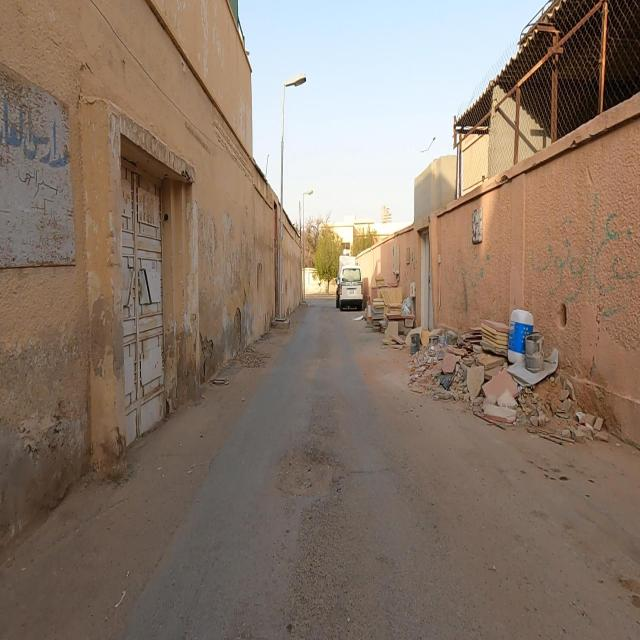Graffiti: (535, 195, 640, 304), (444, 251, 498, 312), (411, 254, 418, 279)
